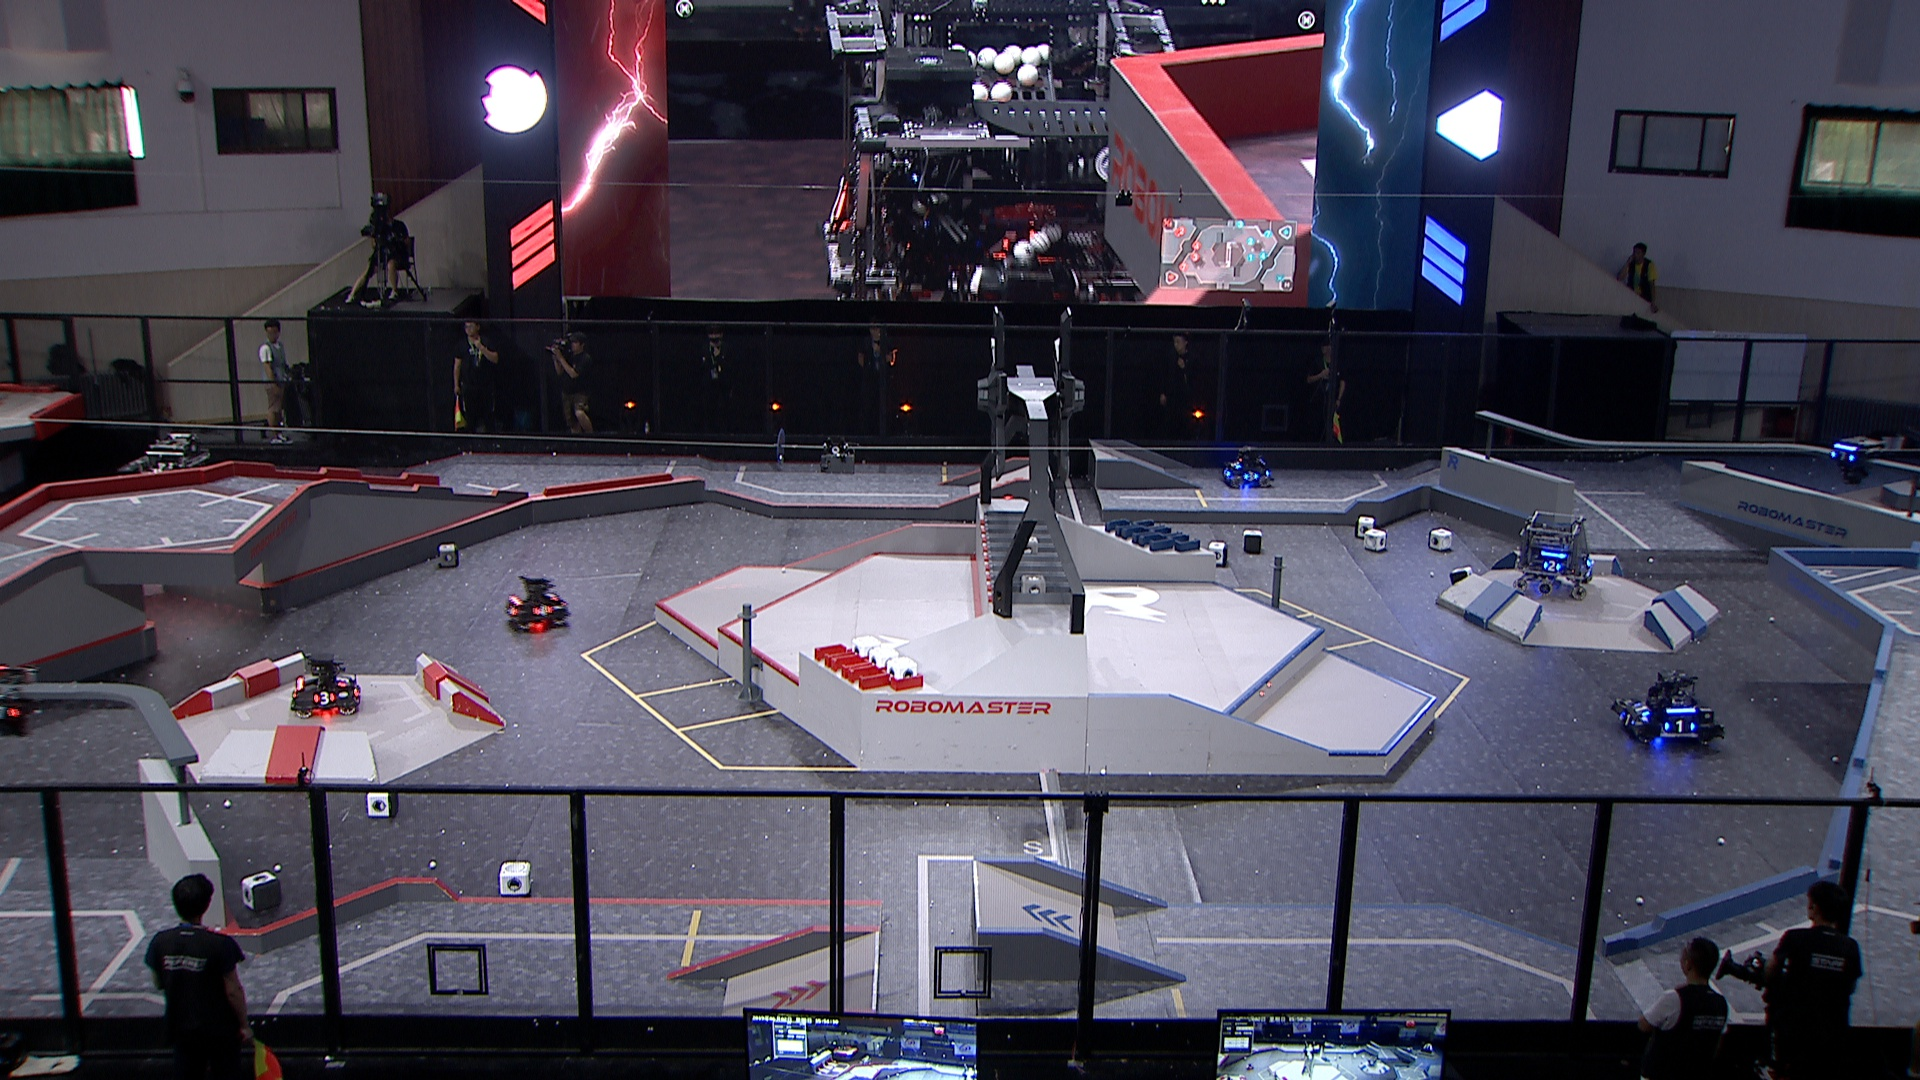armor: (1664, 719, 1698, 736), (311, 690, 340, 707), (1633, 702, 1655, 719), (1825, 450, 1855, 462), (1618, 711, 1638, 728), (334, 671, 353, 688), (1542, 559, 1564, 574), (1240, 469, 1262, 483), (533, 603, 553, 617), (1229, 458, 1244, 469)
car: (116, 431, 218, 527), (1607, 669, 1726, 750), (1509, 509, 1598, 600), (286, 650, 365, 717), (502, 574, 574, 636), (1220, 443, 1275, 491)
watcher: (1818, 433, 1878, 489)
